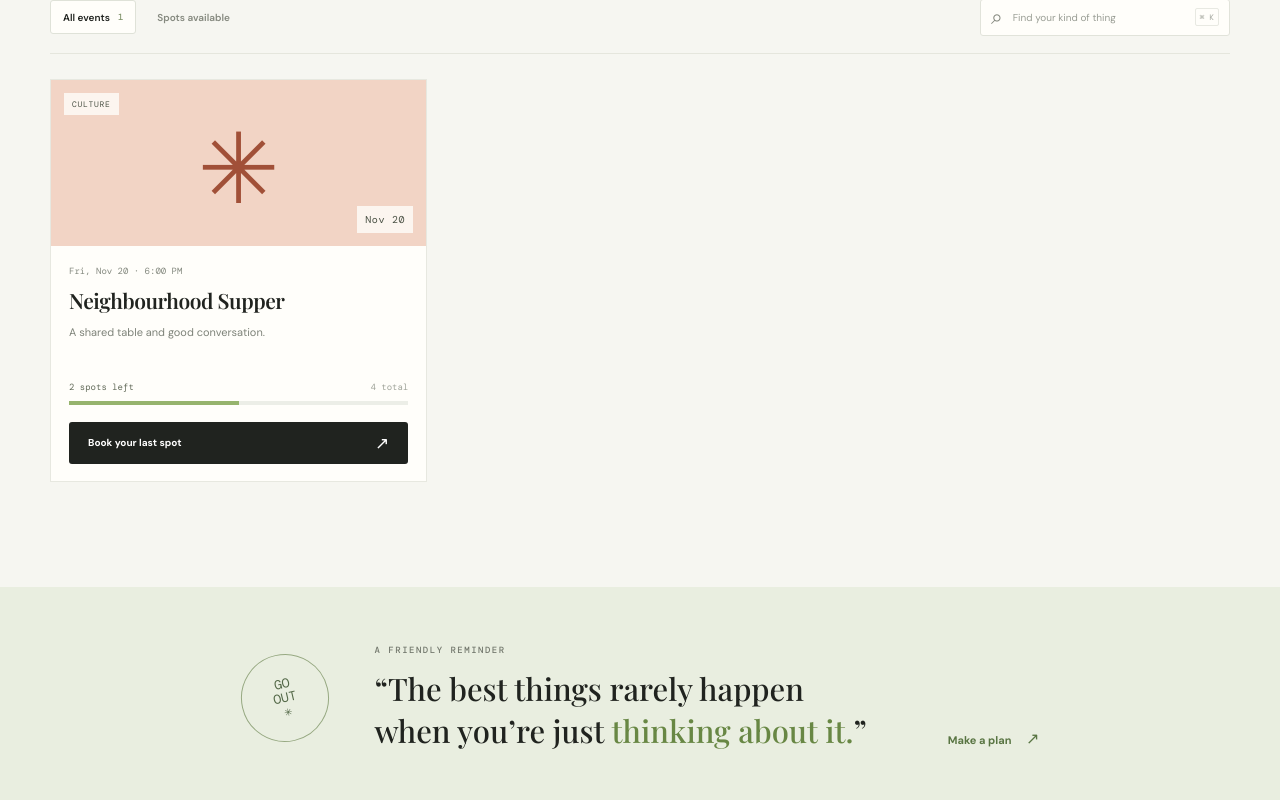
Test: public event discovery › does not create a booking when the confirmation step is dismissed
(page scrolled)
Click the button "Book your last spot ↗" at {"x": 135, "y": 443}, box [69,422,408,464]
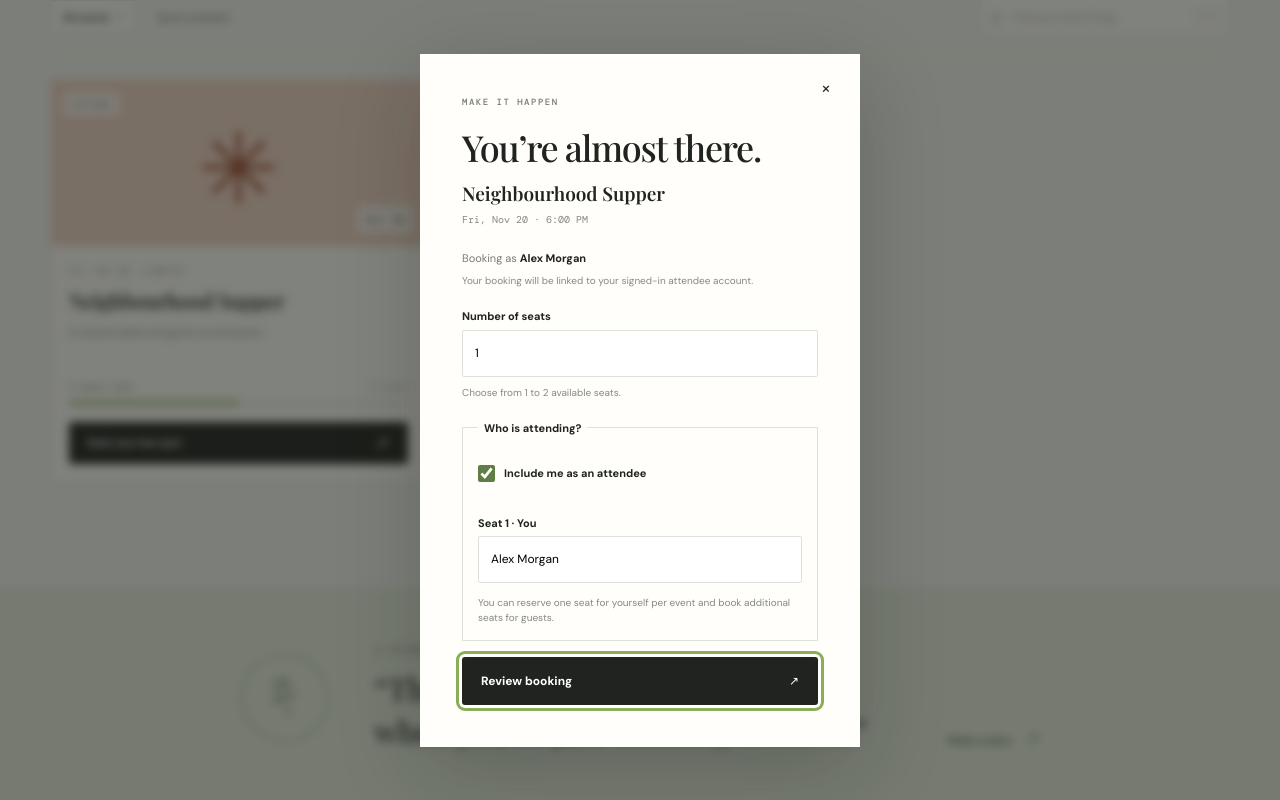
Click the button "Review booking ↗" at {"x": 527, "y": 680}, box [462,656,818,704]
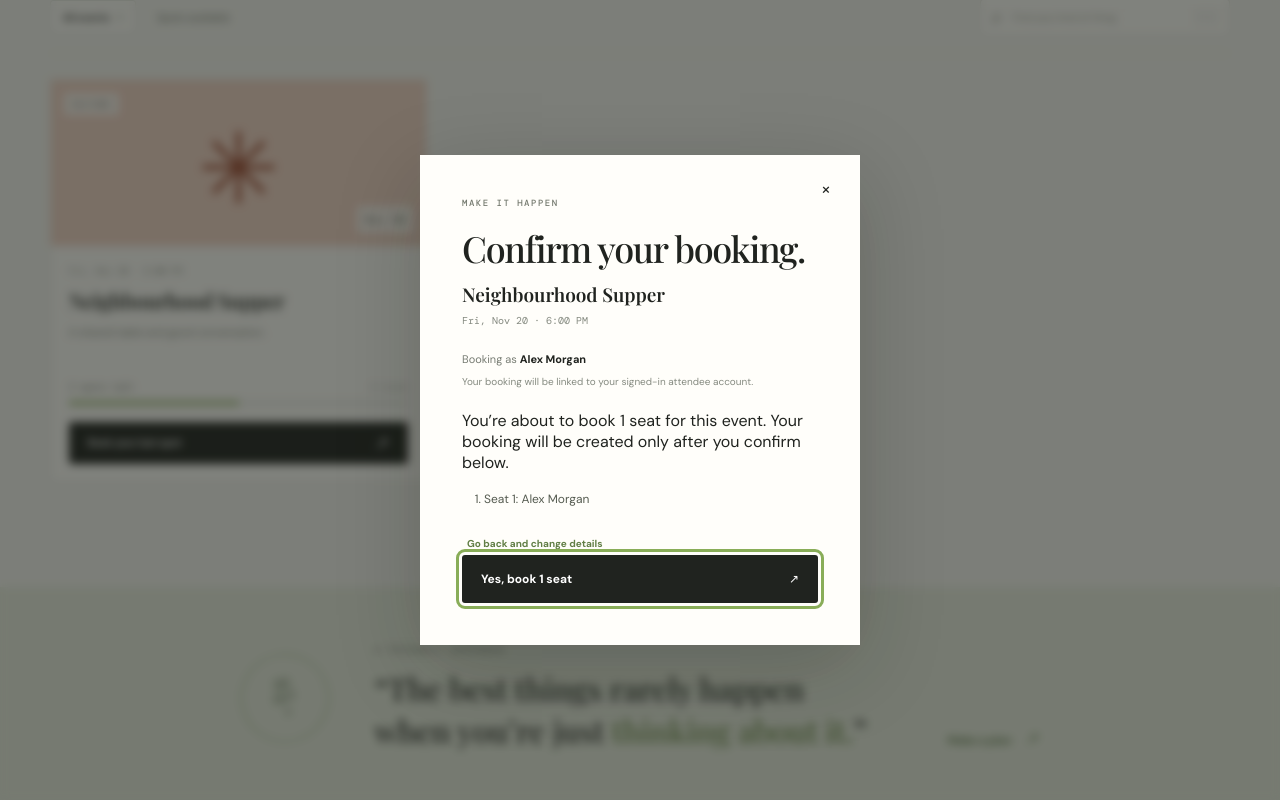
Expected: the message shows "Your booking will be created only after you confirm", [462,410,803,473]
Click the button named "Close booking dialog" at {"x": 826, "y": 189}, box [809,172,843,206]
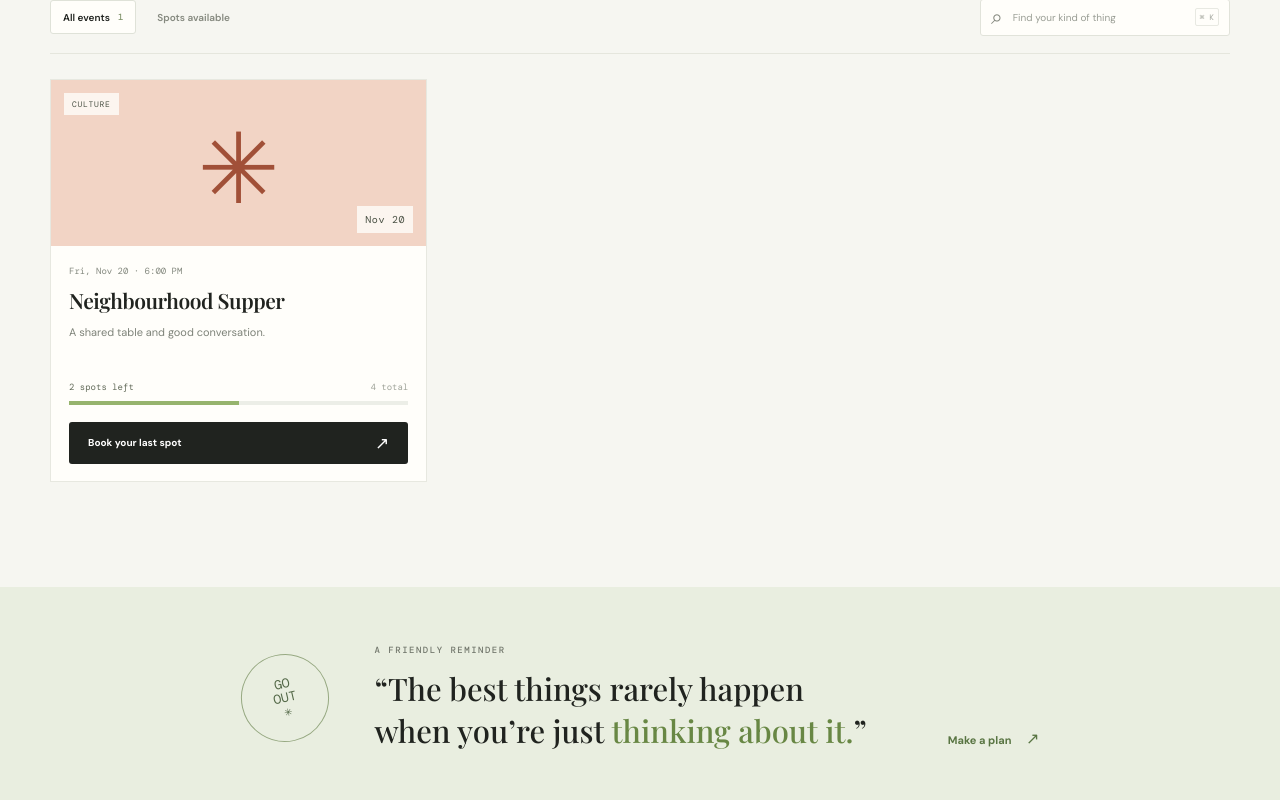
Expected: the dialog is gone
